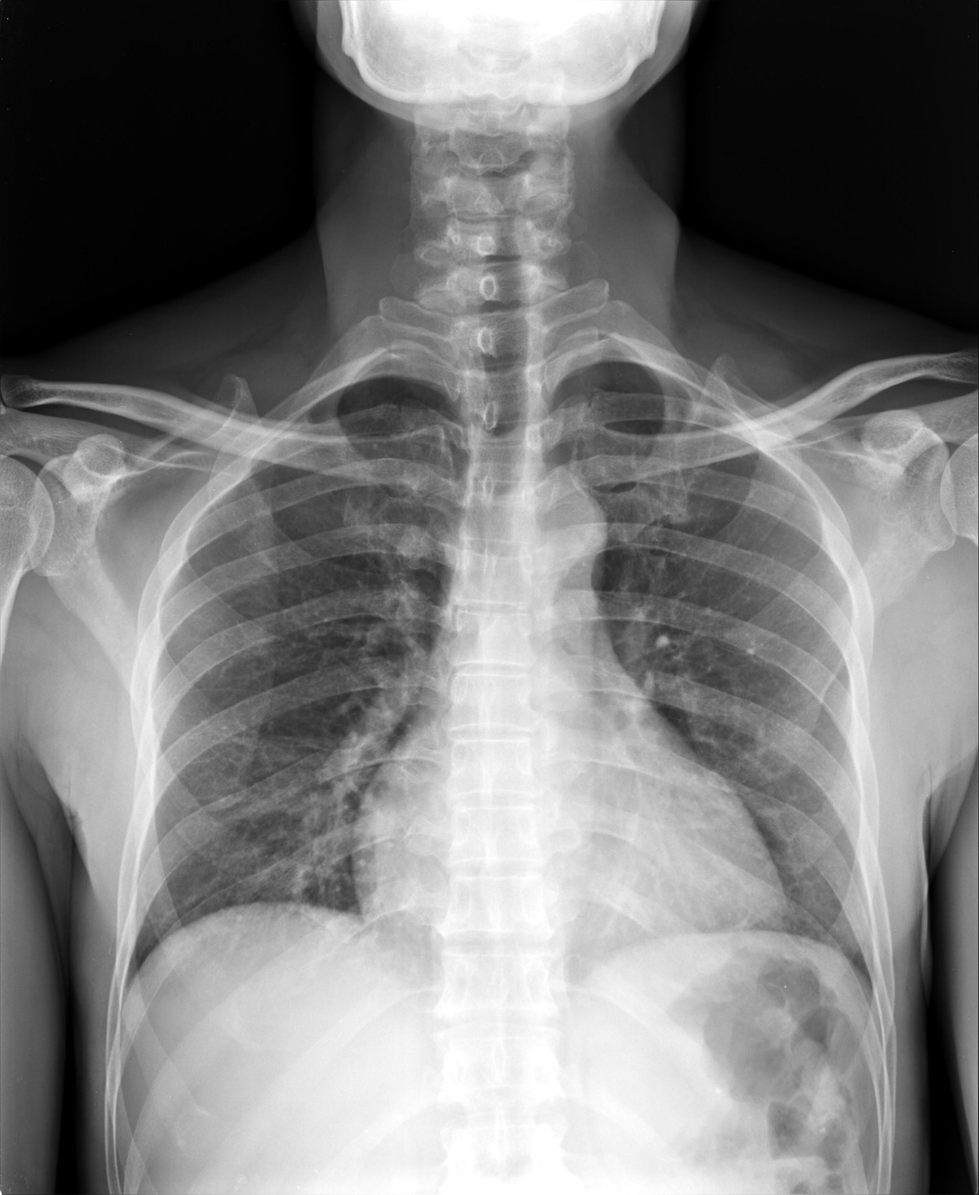Cardiomegaly: (347, 815, 794, 951)
